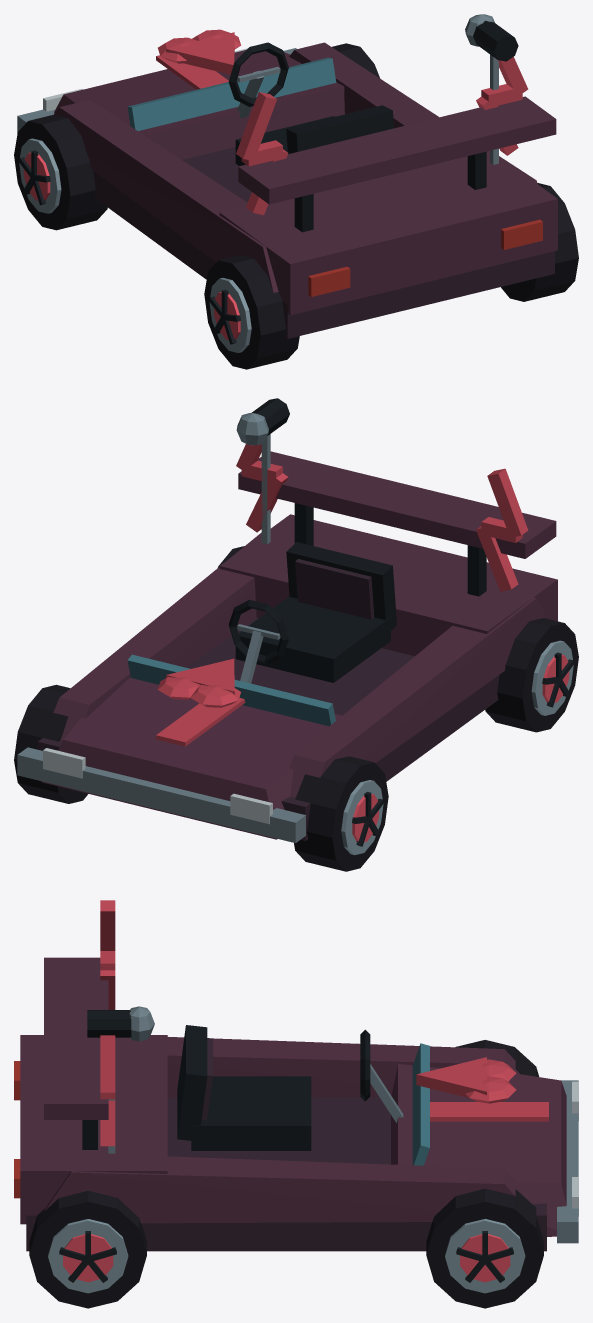
File: kart.glb
3 renders of one model, top to bottom at view 1: azimuth 30°, elevation 25°; view 2: azimuth 150°, elevation 25°; view 3: azimuth 270°, elevation 25°, orthographic. The views are drawn at different scales.
Parts seen in each view (by area): view 1: identity-sports-car-sports-car-road-car-body, wheel-front-left, wheel-rear-left, identity-sports-car-driver-cockpit, identity-sports-car-motif-electric, wheel-rear-right, identity-sports-car-motif-heart, identity-sports-car-motif-microphone, wheel-front-right; view 2: identity-sports-car-sports-car-road-car-body, identity-sports-car-driver-cockpit, wheel-front-left, wheel-rear-left, identity-sports-car-motif-electric, wheel-front-right, identity-sports-car-motif-heart, identity-sports-car-motif-microphone; view 3: identity-sports-car-sports-car-road-car-body, identity-sports-car-driver-cockpit, wheel-front-right, wheel-rear-right, identity-sports-car-motif-electric, identity-sports-car-motif-heart, identity-sports-car-motif-microphone, wheel-front-left.
Boxes of the visible parts, left/top/right/bottom form: identity-sports-car-sports-car-road-car-body: left=17, top=42, right=557, bottom=338; wheel-front-left: left=14, top=114, right=107, bottom=230; wheel-rear-left: left=204, top=255, right=299, bottom=369; identity-sports-car-driver-cockpit: left=228, top=42, right=393, bottom=165; identity-sports-car-motif-electric: left=236, top=57, right=528, bottom=215; wheel-rear-right: left=501, top=183, right=578, bottom=301; identity-sports-car-motif-heart: left=158, top=29, right=240, bottom=74; identity-sports-car-motif-microphone: left=465, top=14, right=518, bottom=164; wheel-front-right: left=332, top=43, right=379, bottom=78; identity-sports-car-sports-car-road-car-body: left=17, top=451, right=557, bottom=843; identity-sports-car-driver-cockpit: left=228, top=542, right=396, bottom=683; wheel-front-left: left=294, top=756, right=388, bottom=871; wheel-rear-left: left=485, top=618, right=578, bottom=732; identity-sports-car-motif-electric: left=236, top=444, right=528, bottom=591; wheel-front-right: left=14, top=684, right=87, bottom=803; identity-sports-car-motif-heart: left=157, top=658, right=240, bottom=707; identity-sports-car-motif-microphone: left=236, top=398, right=289, bottom=544; identity-sports-car-sports-car-road-car-body: left=14, top=957, right=578, bottom=1251; identity-sports-car-driver-cockpit: left=177, top=1025, right=403, bottom=1150; wheel-front-right: left=426, top=1188, right=543, bottom=1308; wheel-rear-right: left=29, top=1191, right=146, bottom=1308; identity-sports-car-motif-electric: left=100, top=900, right=115, bottom=1146; identity-sports-car-motif-heart: left=416, top=1057, right=516, bottom=1103; identity-sports-car-motif-microphone: left=87, top=1006, right=154, bottom=1153; wheel-front-left: left=455, top=1040, right=539, bottom=1076.
Bounding box in the file's own units: 2.07 × 1.57 × 2.88.
